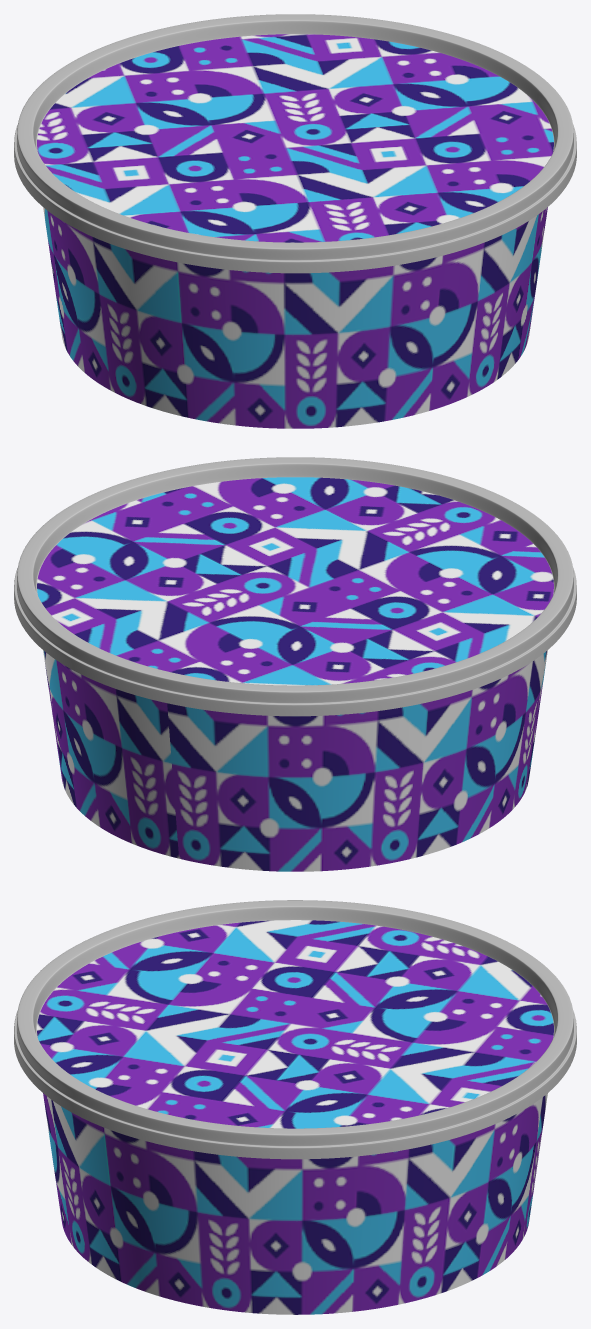
The picture shows the model from 3 angles, top to bottom: view 1: azimuth 30°, elevation 25°; view 2: azimuth 150°, elevation 25°; view 3: azimuth 270°, elevation 25°; orthographic projection.
Visible parts, largest first — view 1: label-b, Lid.008; view 2: label-b, Lid.008; view 3: label-b, Lid.008.
Part boxes in pixels (<box>): label-b: <box>37,34,553,428</box>; Lid.008: <box>14,14,576,273</box>; label-b: <box>37,477,553,871</box>; Lid.008: <box>14,457,576,716</box>; label-b: <box>37,920,553,1314</box>; Lid.008: <box>14,900,576,1159</box>.
Size of the model in its own units: 0.1502 by 0.0588 by 0.1502.
3 materials, 1 textured.
